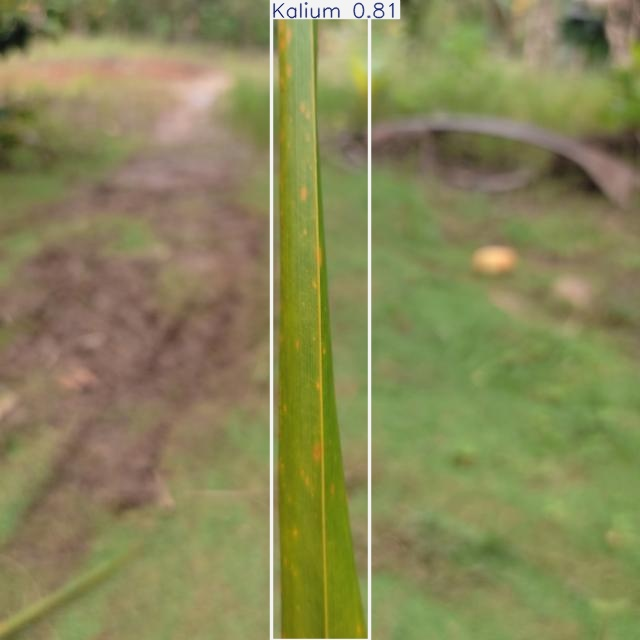Kalium: (272, 0, 369, 640)
